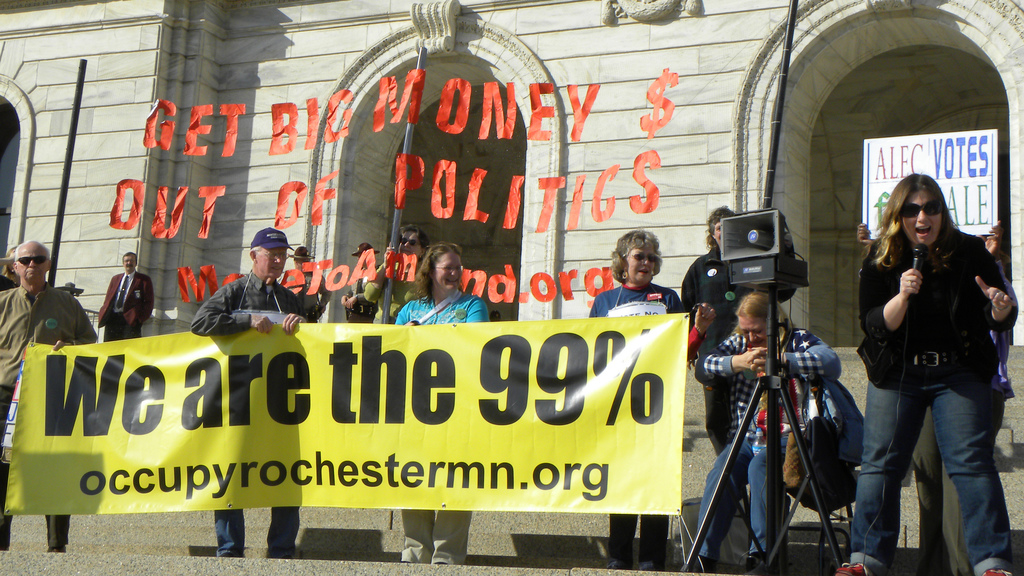Footwear: (829, 559, 883, 575), (978, 557, 1014, 575)
